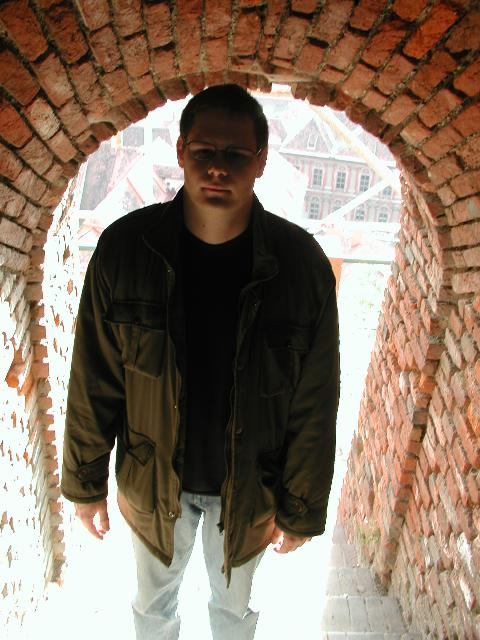Person: (57, 82, 348, 640)
